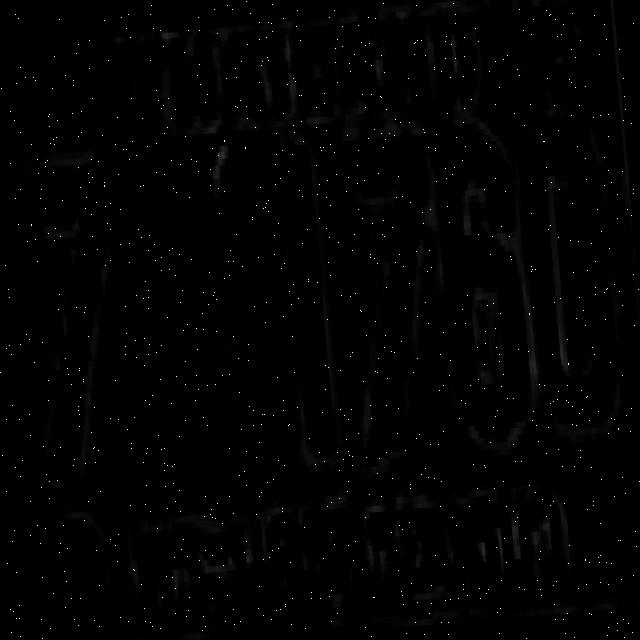0: (514, 119, 618, 419)
1: (280, 141, 331, 449), (137, 160, 184, 456)
6: (427, 123, 527, 430)
7: (342, 128, 442, 440), (24, 162, 124, 468)
Ayutthaya: (115, 455, 584, 640)
